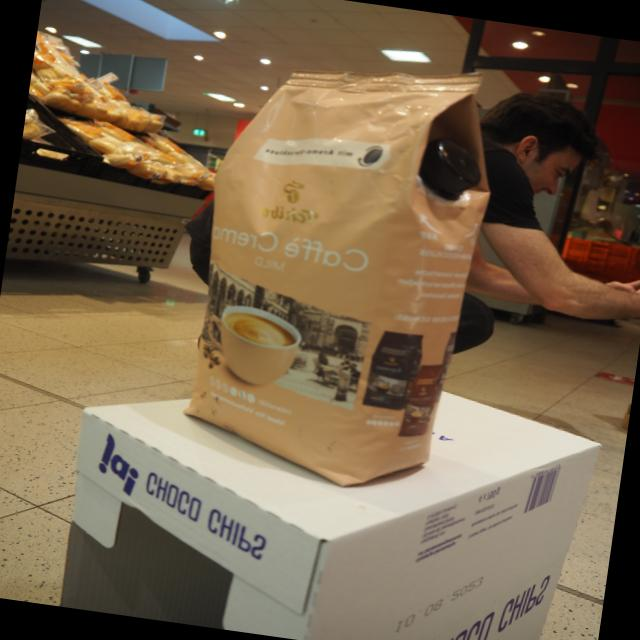CC Mild: (164, 32, 512, 506)
